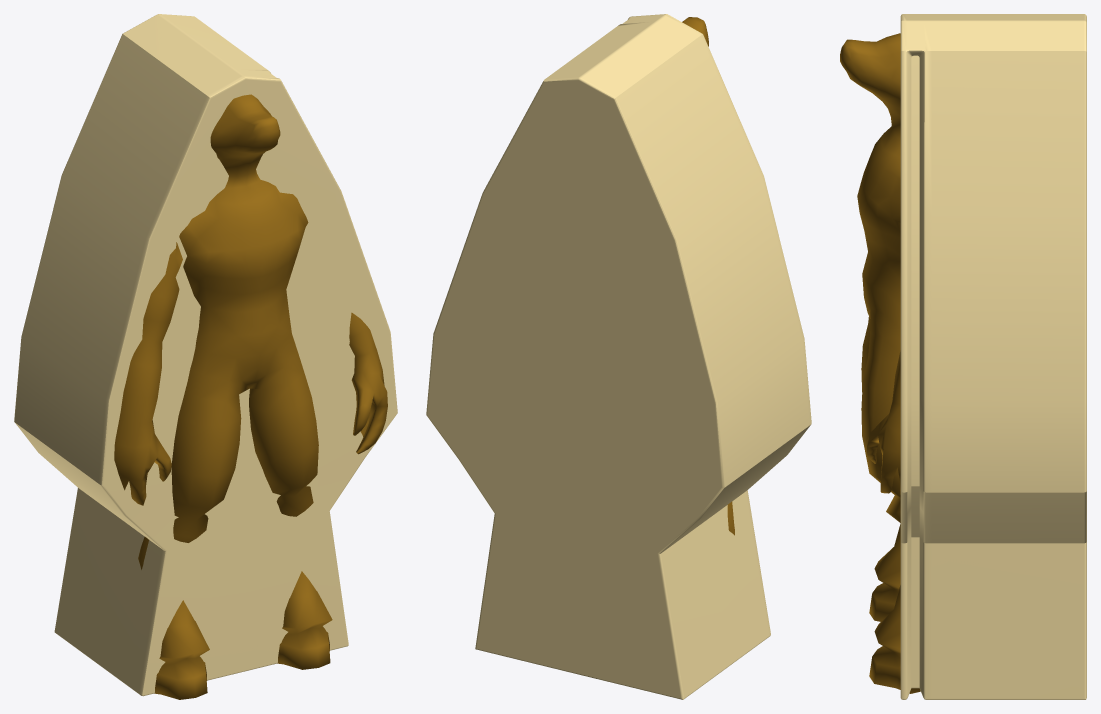
The model's file is Sarcofago_FBX.fbx.
3 renders of one model, left to right at view 1: azimuth 30°, elevation 25°; view 2: azimuth 150°, elevation 25°; view 3: azimuth 270°, elevation 25°, orthographic. The views are drawn at different scales.
Visible parts, largest first — view 1: pPlane2; view 2: pPlane2; view 3: pPlane2.
Boxes of the visible parts, box(x1,y1,x2,y2) form: pPlane2: box(14, 14, 397, 699); pPlane2: box(426, 14, 811, 699); pPlane2: box(840, 14, 1086, 699).
Bounding box in the file's own units: 114 × 218 × 77.64.
